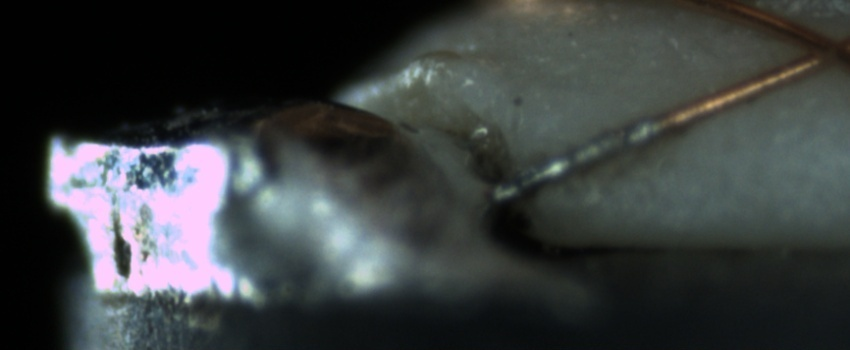CL: (776, 16, 847, 80)
TB: (623, 118, 655, 148)
TS: (484, 117, 665, 207)
TTCW: (490, 103, 703, 202)
